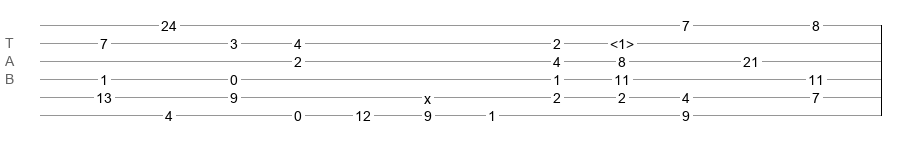0: (230, 72, 238, 82), (294, 108, 302, 118)
1: (100, 72, 108, 82), (488, 108, 496, 118), (553, 72, 561, 82)
11: (614, 72, 630, 82), (808, 72, 824, 82)
12: (355, 108, 371, 118)
13: (96, 90, 112, 100)
2: (294, 54, 302, 64), (553, 90, 561, 100), (553, 36, 561, 46), (618, 90, 626, 100)
21: (743, 54, 759, 64)
24: (161, 18, 177, 28)
3: (230, 36, 238, 46)
4: (165, 108, 173, 118), (294, 36, 302, 46), (553, 54, 561, 64), (682, 90, 690, 100)
7: (100, 36, 108, 46), (682, 18, 690, 28), (812, 90, 820, 100)
8: (618, 54, 626, 64), (812, 18, 820, 28)
9: (230, 90, 238, 100), (424, 108, 432, 118), (682, 108, 690, 118)
harmonic: (610, 36, 634, 46)
x: (424, 91, 431, 99)
